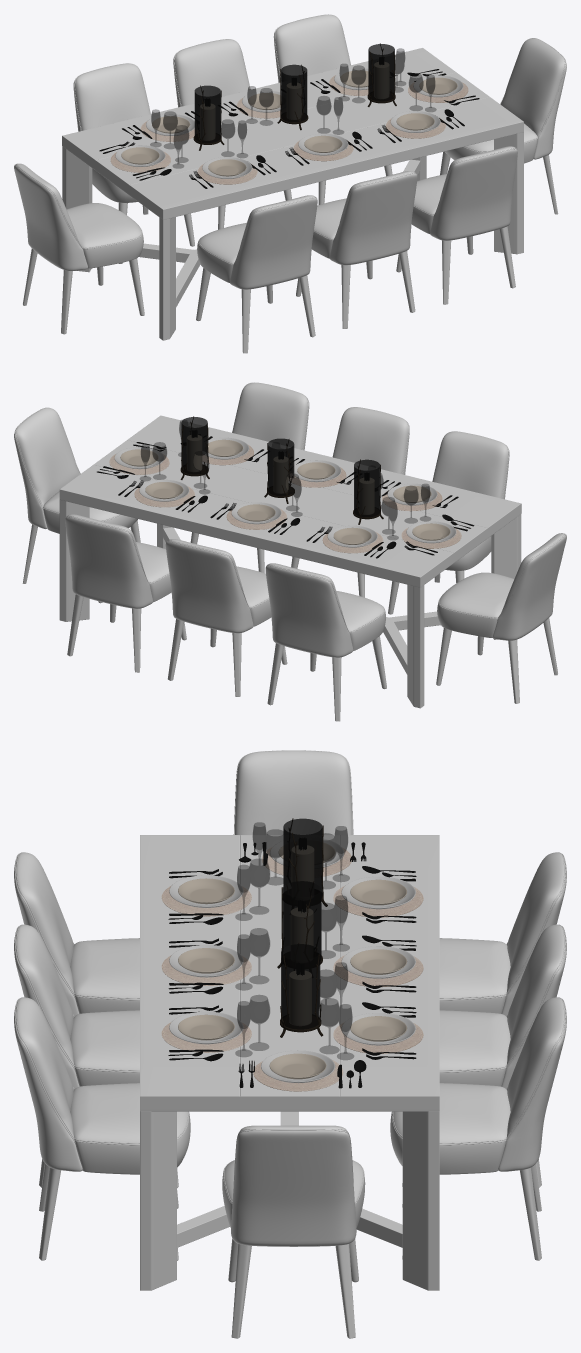
File: uploads_files_863455_gernoble_torino_standard.FBX
3 views of the same model, one above another, from view 1: azimuth 30°, elevation 25°; view 2: azimuth 150°, elevation 25°; view 3: azimuth 270°, elevation 25° (orthographic). The views are drawn at different scales.
Parts seen in each view (by area): view 1: Box003, chair_fabric003, chair_fabric, chair_fabric004, chair_fabric006, chair_fabric001, Box004, chair_fabric002, chair_fabric005, chair_fabric007, candle (×2), candle008 (+22 smaller); view 2: Box003, chair_fabric002, chair_fabric, chair_fabric005, chair_fabric007, Box004, chair_fabric001, chair_fabric003, chair_fabric004, chair_fabric006, candle (×2), chair_legs002 (+23 smaller); view 3: Box003, chair_fabric001, Box004, chair_fabric005, chair_fabric004, chair_fabric, chair_fabric007, chair_fabric002, chair_fabric006, chair_fabric003, candle (×2), candle006 (+28 smaller).
Part boxes in pixels (x1,y1,x2,y2): Box003: [62, 48, 523, 219]; chair_fabric003: [197, 195, 317, 289]; chair_fabric: [14, 163, 143, 270]; chair_fabric004: [411, 146, 517, 240]; chair_fabric006: [311, 171, 417, 265]; chair_fabric001: [444, 38, 566, 163]; Box004: [62, 132, 523, 340]; chair_fabric002: [73, 63, 150, 202]; chair_fabric005: [273, 14, 350, 82]; chair_fabric007: [173, 39, 250, 107]; candle (×2): [194, 85, 220, 143]; candle008: [281, 64, 307, 122]; Box003: [59, 415, 521, 587]; chair_fabric002: [265, 563, 385, 657]; chair_fabric: [437, 533, 566, 640]; chair_fabric005: [65, 514, 171, 608]; chair_fabric007: [165, 539, 271, 633]; Box004: [59, 500, 521, 708]; chair_fabric001: [14, 407, 137, 533]; chair_fabric003: [432, 431, 509, 570]; chair_fabric004: [232, 382, 309, 450]; chair_fabric006: [332, 407, 409, 474]; candle (×2): [354, 459, 380, 517]; chair_legs002: [267, 636, 386, 721]; Box003: [140, 835, 439, 1111]; chair_fabric001: [222, 1125, 365, 1246]; Box004: [140, 1111, 439, 1290]; chair_fabric005: [390, 997, 566, 1174]; chair_fabric004: [14, 997, 190, 1174]; chair_fabric: [233, 750, 353, 834]; chair_fabric007: [439, 924, 566, 1088]; chair_fabric002: [439, 852, 566, 1016]; chair_fabric006: [14, 924, 139, 1088]; chair_fabric003: [14, 852, 139, 1016]; candle (×2): [283, 818, 322, 898]; candle006: [281, 944, 320, 1029].
Size of the model in its own units: 3202 by 1083 by 1966.
